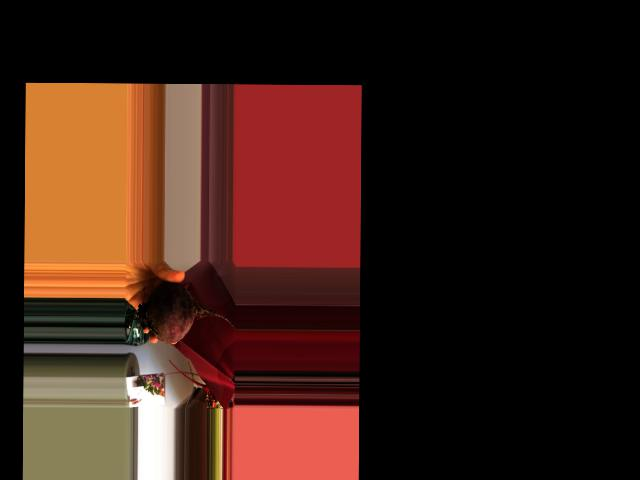beet: (124, 282, 235, 344)
